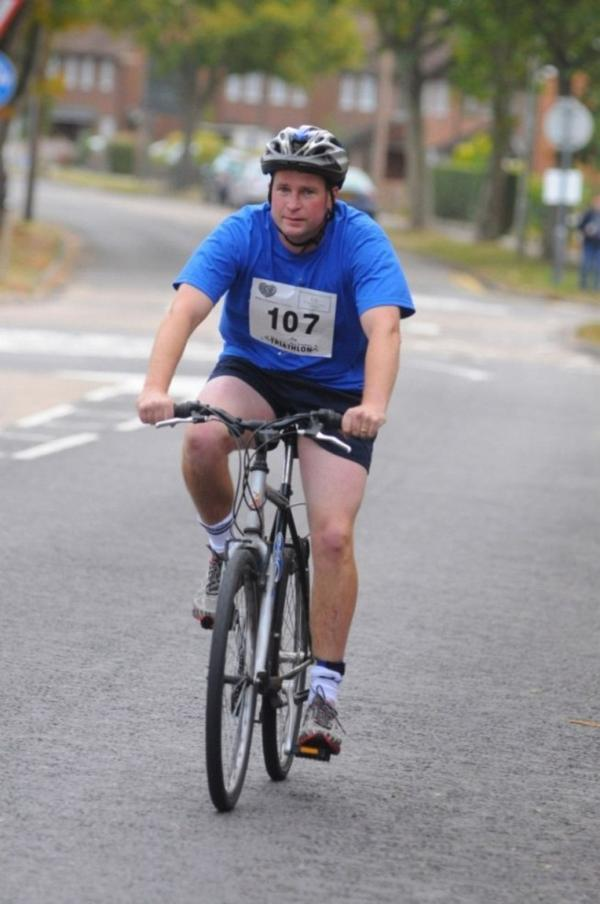person: (138, 121, 416, 765)
